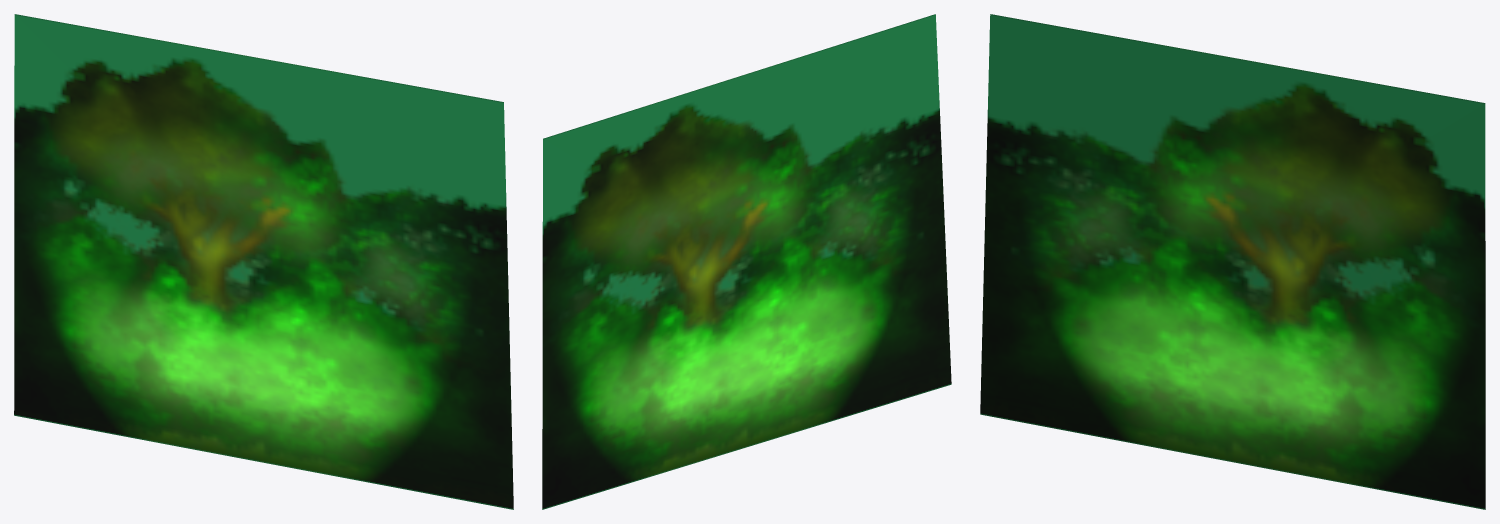
The model's file is tree01.glb.
3 renders of one model, left to right at view 1: azimuth 90°, elevation 25°; view 2: azimuth 150°, elevation 25°; view 3: azimuth 270°, elevation 25°, orthographic. The views are drawn at different scales.
Parts seen in each view (by area): view 1: tree01; view 2: tree01; view 3: tree01.
Part boxes in pixels (bbox=[...]): tree01: bbox=[14, 14, 513, 509]; tree01: bbox=[542, 14, 951, 509]; tree01: bbox=[980, 14, 1485, 509].
Size of the model in its own units: 658 by 1307 by 1473.
Materials: 1 (1 with a texture image).
